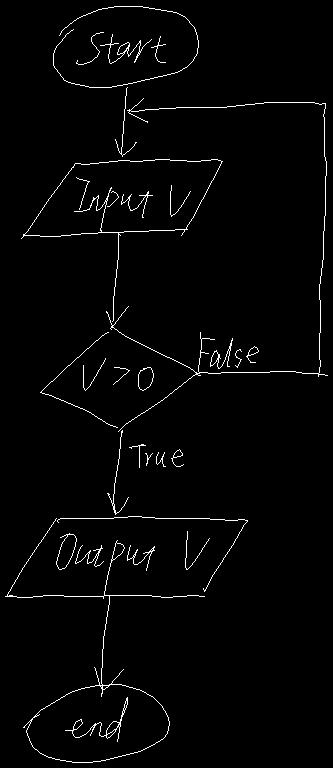arrow: (127, 98, 327, 376), (94, 596, 123, 696), (106, 233, 128, 326), (107, 430, 128, 514), (115, 87, 136, 156)
data: (5, 516, 247, 597), (21, 159, 222, 238)
decision: (40, 326, 197, 431)
terminator: (53, 6, 198, 87), (23, 684, 169, 762)
text: (56, 531, 209, 598), (74, 177, 190, 232), (76, 32, 165, 64), (65, 697, 127, 741), (198, 332, 258, 372), (83, 358, 153, 390), (129, 444, 183, 467)
